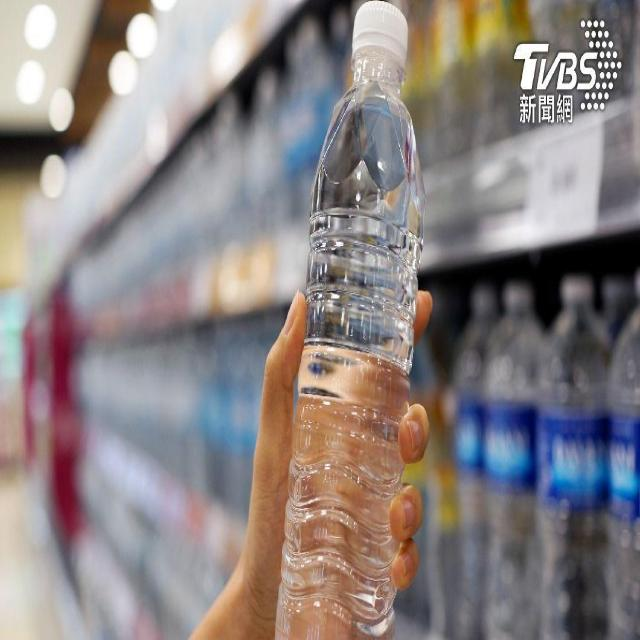bottle: (292, 0, 424, 640)
